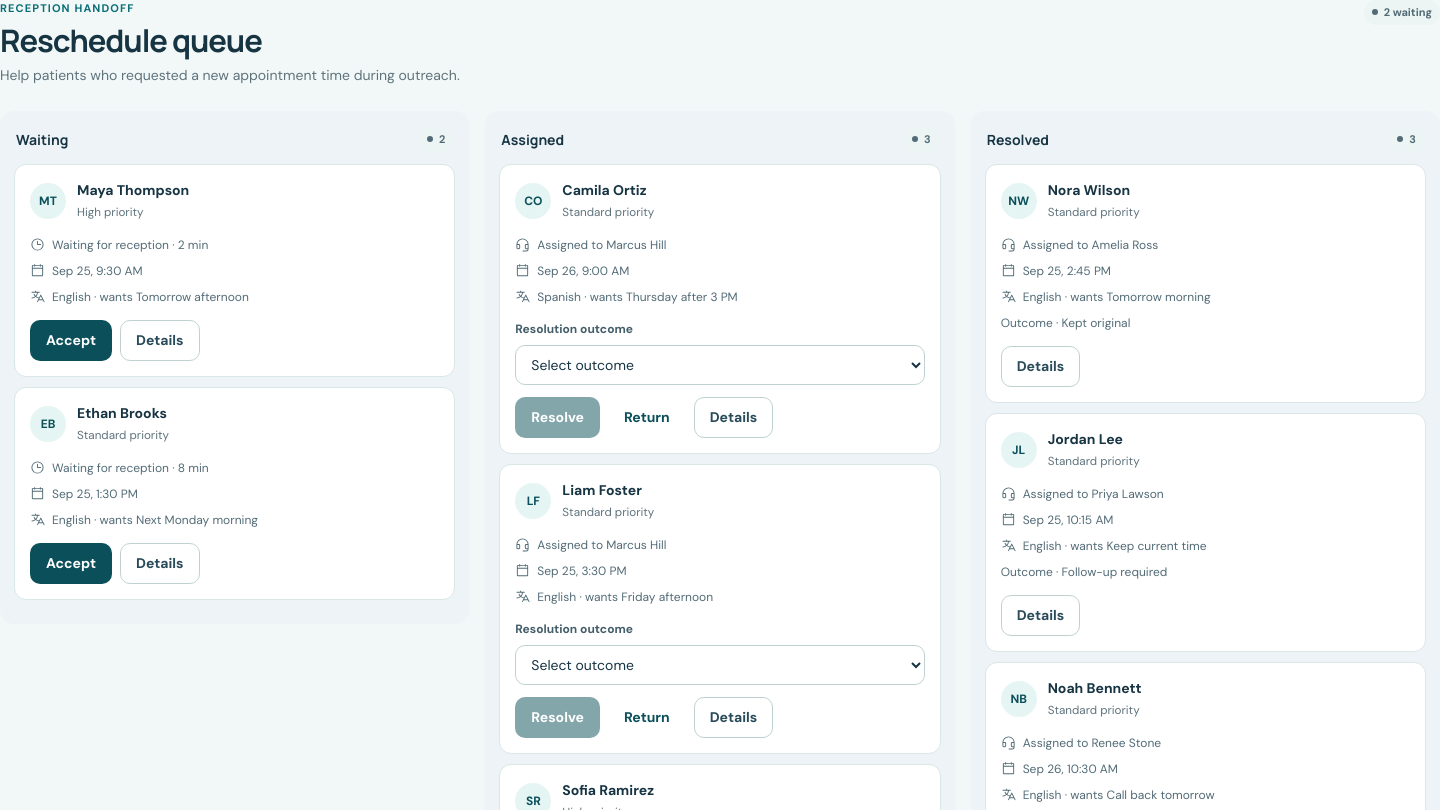
ReschedulePage › opens the reschedule request context from Details
Click the button with aria-label "View Maya Thompson details": {"x": 160, "y": 340} [120,320,200,361]
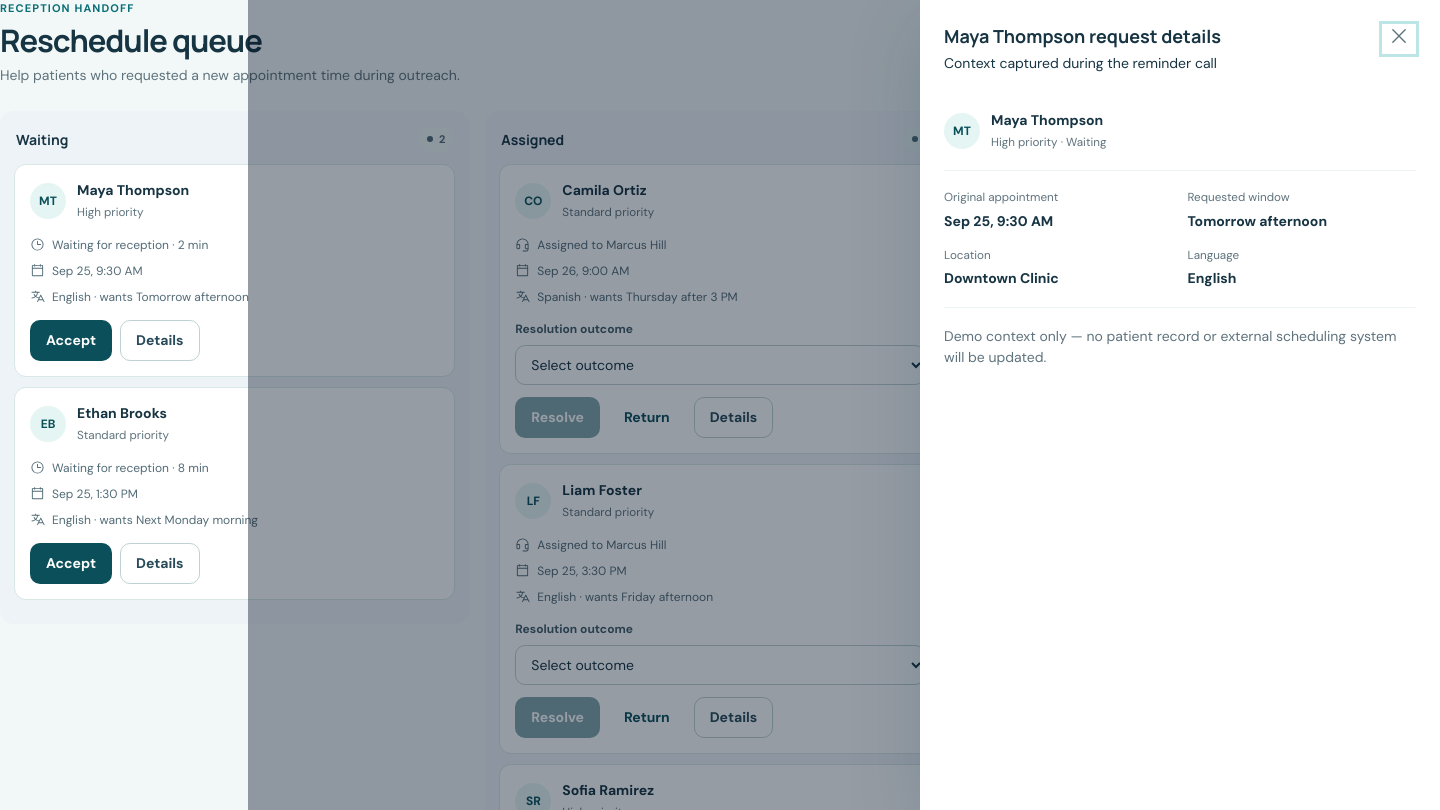
Expected: the dialog "Maya Thompson request details" is shown, [920,0,1439,809]
Expected: the text "Tomorrow afternoon" is shown, [1188,212,1327,230]
Expected: the text "Downtown Clinic" is shown, [944,269,1059,287]
